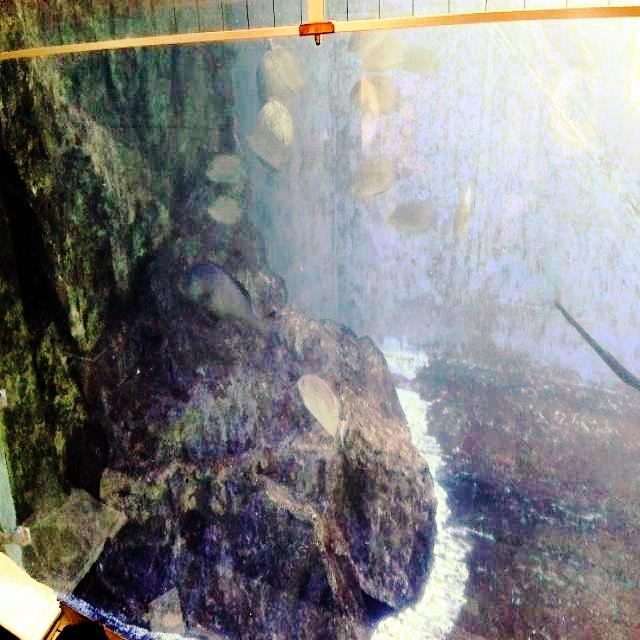gold snapper: (292, 364, 358, 457), (384, 184, 446, 244), (342, 149, 404, 204), (448, 180, 478, 258), (202, 149, 252, 189), (205, 188, 250, 230)
